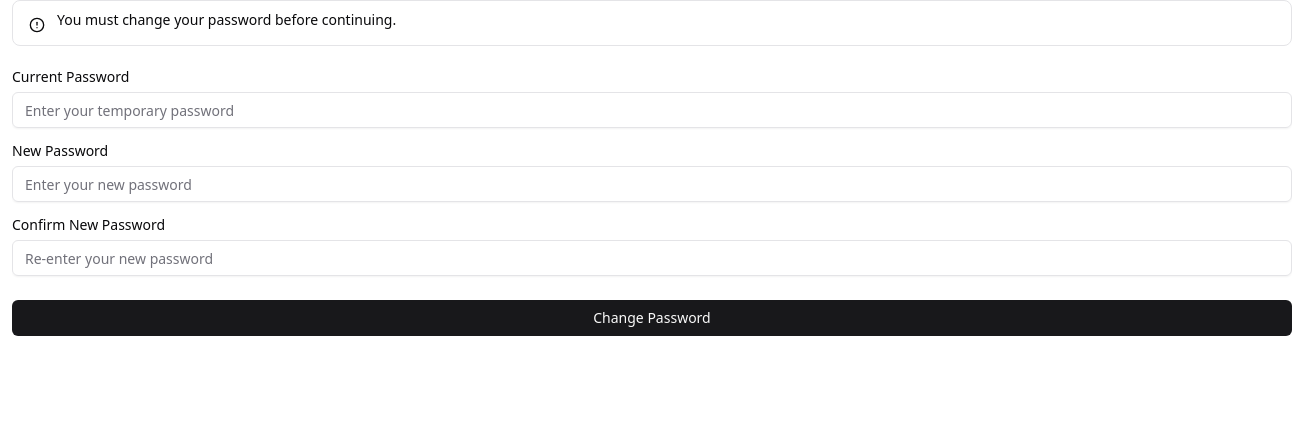
Scenario: ChangePasswordForm › displays backend error on failure
In the password field labelled "Current Password": coordinates (652, 110) [12,92,1292,128], type "wrongpass"
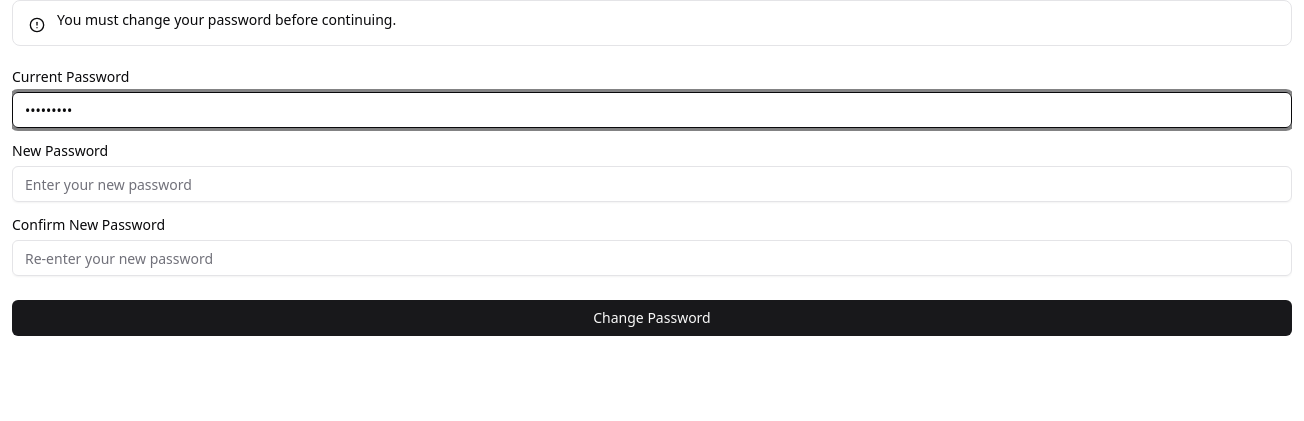
In the password field labelled "New Password": coordinates (652, 184) [12,166,1292,202], type "newstrongpass1"
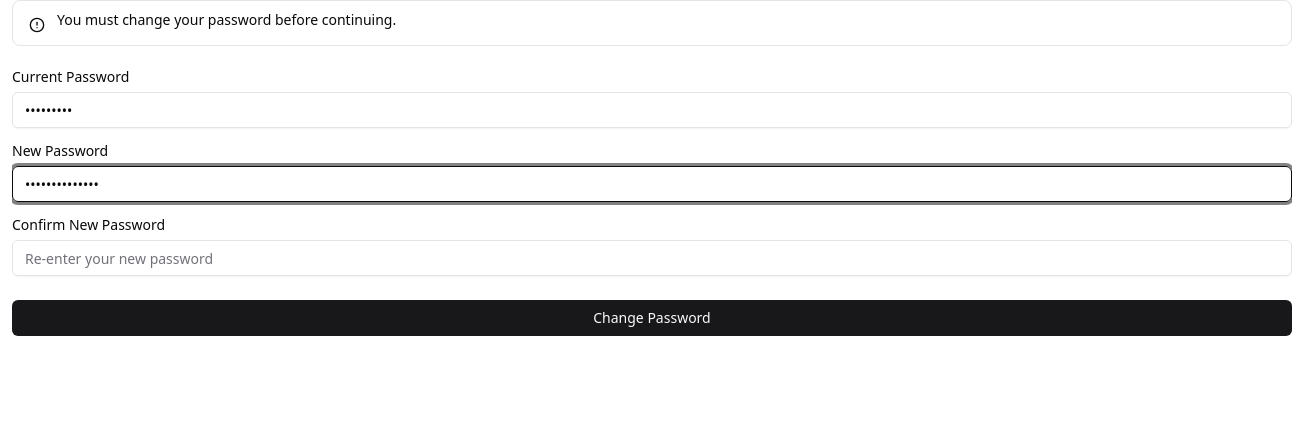
In the password field labelled "Confirm New Password": coordinates (652, 258) [12,240,1292,276], type "newstrongpass1"
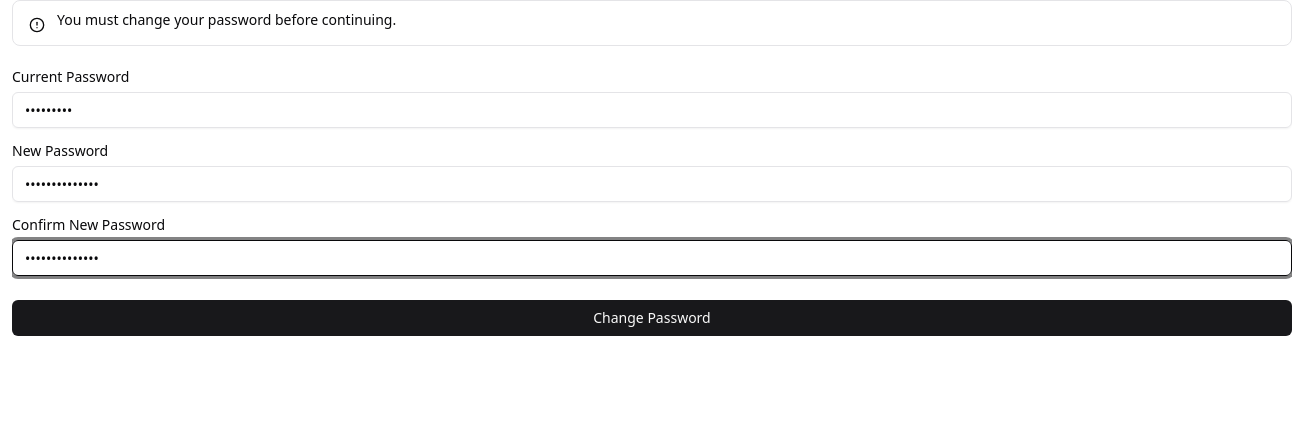
Click the button "Change Password": coordinates (652, 318) [12,300,1292,336]
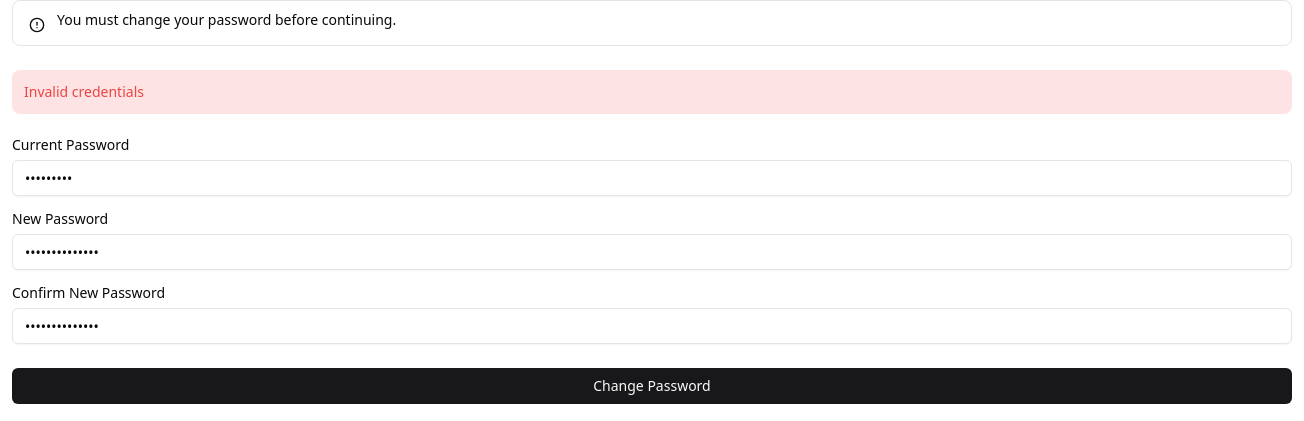
Expected: the text "Invalid credentials" is shown, [12,70,1292,114]
